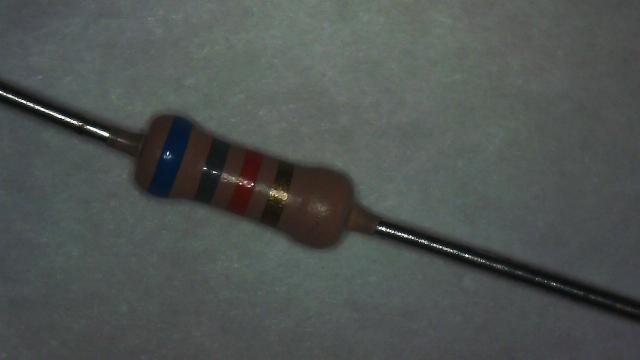blue: (148, 116, 192, 198)
gold: (260, 160, 294, 226)
grey: (194, 138, 230, 204)
orange: (228, 150, 264, 215)
resistor: (101, 95, 394, 279)
